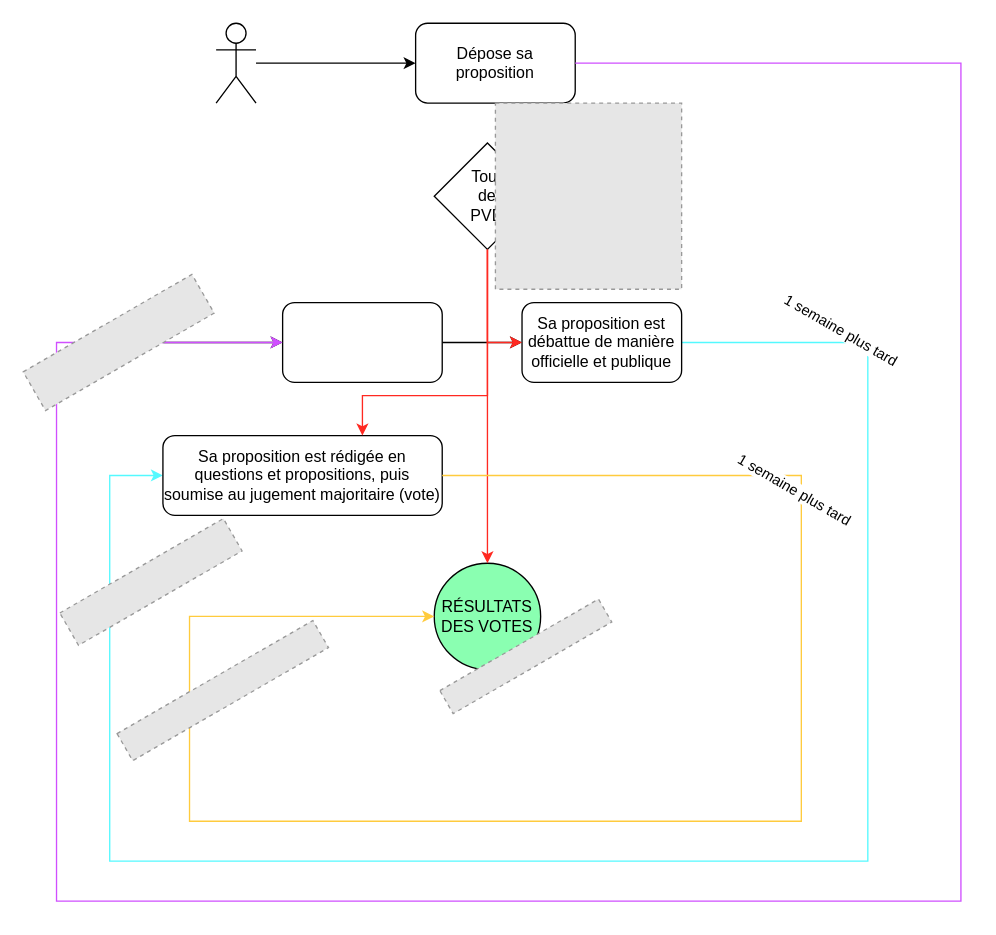
This 996x935 diagram has some shape labels left out. Grey dashed boxes stand in for pictures. The centre of each missing label's shape, as x and y in pixels:
"Citoyen⋅ne(s)" belongs at pixel 235 62.
"Sa proposition est la plus plébiscitée" belongs at pixel 361 341.
